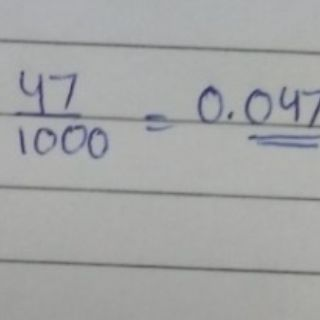.: (226, 109, 235, 121)
0: (194, 82, 224, 124), (242, 84, 272, 125), (33, 127, 58, 156)
1: (12, 125, 30, 155)
7: (48, 66, 83, 110)
9: (16, 59, 46, 113), (278, 82, 302, 123)
